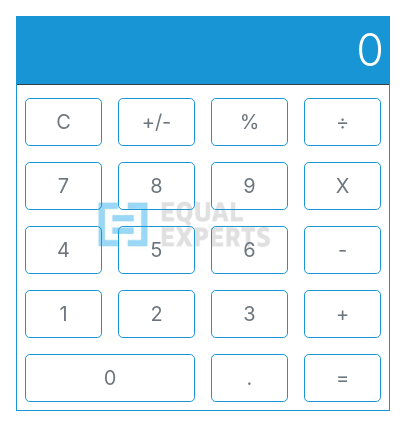
Test: Calculator › calculation › click --> 5  --> - --> 1 --> =, updates display with expected calculated value
Click the button "5": (156, 250) [118,226,195,274]
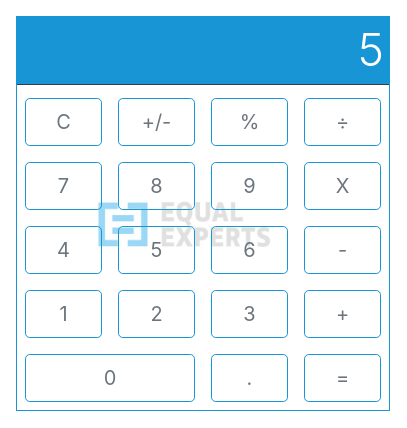
Click the button "-": (342, 250) [304,226,381,274]
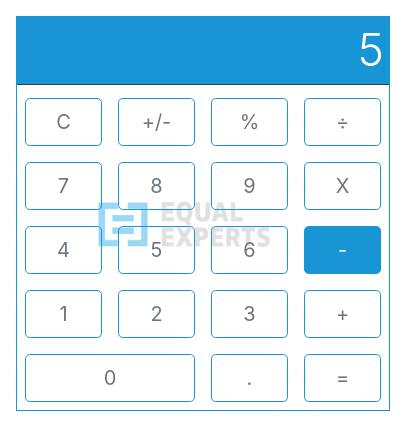
Click the button "1": (64, 314) [25,290,102,338]
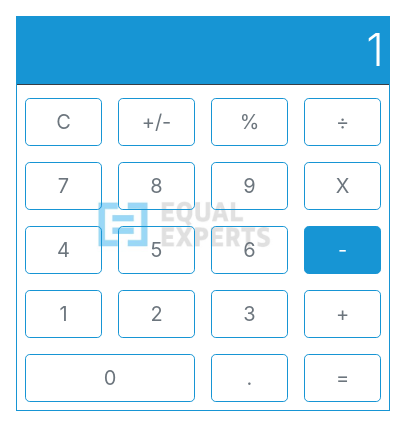
Click the button "=": (342, 378) [304,354,381,402]
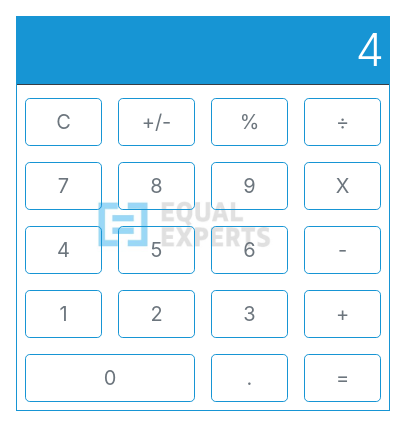
Check: the text with class "display" reads "4", box [356,23,384,77]
